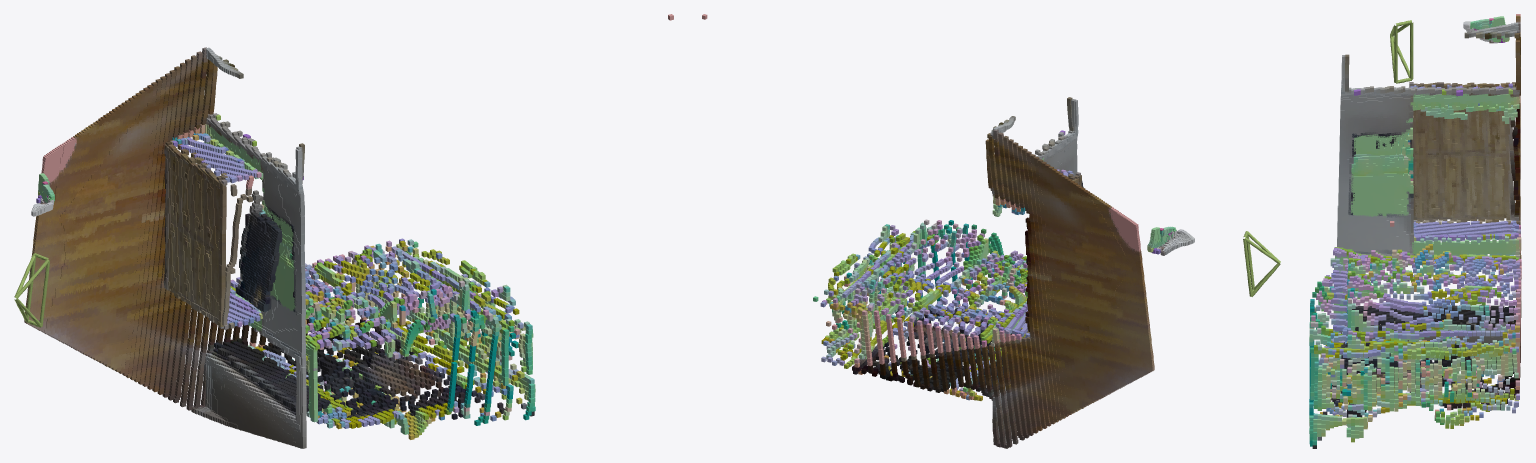
3 views of the same model, side by side, from view 1: azimuth 30°, elevation 25°; view 2: azimuth 150°, elevation 25°; view 3: azimuth 270°, elevation 25° (orthographic). The views are drawn at different scales.
Size of the model in its own units: 8.53 by 4.49 by 2.51.
